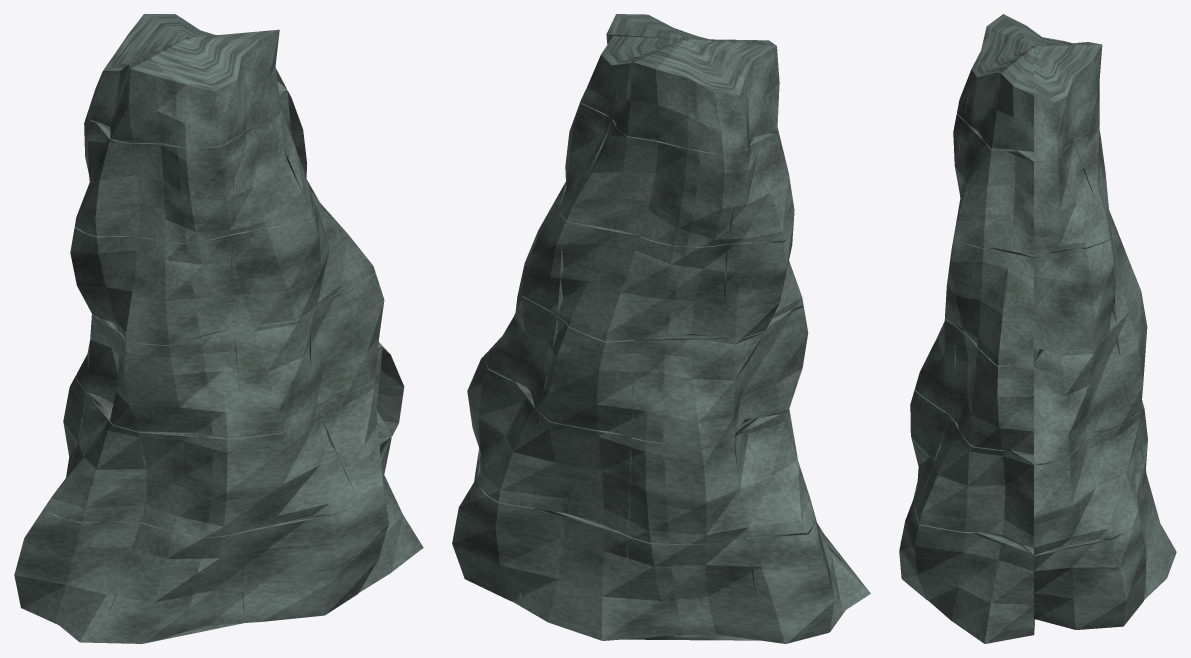
Rendered from azure_rock_fragments.glb.
3 views of the same model, side by side, from view 1: azimuth 30°, elevation 25°; view 2: azimuth 150°, elevation 25°; view 3: azimuth 270°, elevation 25° (orthographic). The views are drawn at different scales.
Parts seen in each view (by area): view 1: azure_rock_shard_2, azure_rock_shard_1, azure_rock_shard_3, azure_rock_shard_16, azure_rock_shard_9, azure_rock_shard_8, azure_rock_shard_23, azure_rock_shard_10, azure_rock_shard_15, azure_rock_shard_22, azure_rock_shard_30, azure_rock_shard_37 (+16 smaller); view 2: azure_rock_shard_4, azure_rock_shard_5, azure_rock_shard_11, azure_rock_shard_18, azure_rock_shard_3, azure_rock_shard_12, azure_rock_shard_32, azure_rock_shard_25, azure_rock_shard_19, azure_rock_shard_26, azure_rock_shard_13, azure_rock_shard_10 (+13 smaller); view 3: azure_rock_shard_0, azure_rock_shard_13, azure_rock_shard_7, azure_rock_shard_6, azure_rock_shard_20, azure_rock_shard_21, azure_rock_shard_27, azure_rock_shard_14, azure_rock_shard_28, azure_rock_shard_34, azure_rock_shard_35, azure_rock_shard_41 (+16 smaller).
Part boxes in pixels (x1,y1,x2,y2): azure_rock_shard_2: (98, 522, 245, 643); azure_rock_shard_1: (242, 506, 369, 622); azure_rock_shard_3: (14, 510, 142, 642); azure_rock_shard_16: (129, 329, 244, 438); azure_rock_shard_9: (138, 431, 247, 536); azure_rock_shard_8: (245, 406, 360, 530); azure_rock_shard_23: (132, 234, 233, 344); azure_rock_shard_10: (43, 392, 146, 522); azure_rock_shard_15: (234, 312, 317, 436); azure_rock_shard_22: (232, 219, 314, 328); azure_rock_shard_30: (150, 140, 233, 243); azure_rock_shard_37: (149, 35, 231, 147); azure_rock_shard_4: (621, 536, 761, 640); azure_rock_shard_5: (517, 508, 628, 640); azure_rock_shard_11: (628, 436, 746, 544); azure_rock_shard_18: (631, 337, 734, 448); azure_rock_shard_3: (746, 513, 870, 643); azure_rock_shard_12: (533, 414, 631, 535); azure_rock_shard_32: (641, 139, 734, 246); azure_rock_shard_25: (633, 237, 727, 339); azure_rock_shard_19: (540, 317, 634, 436); azure_rock_shard_26: (557, 221, 640, 341); azure_rock_shard_13: (467, 351, 540, 507); azure_rock_shard_10: (734, 409, 815, 537); azure_rock_shard_0: (909, 513, 1033, 643); azure_rock_shard_13: (1034, 419, 1139, 555); azure_rock_shard_7: (916, 415, 1033, 554); azure_rock_shard_6: (1034, 521, 1147, 634); azure_rock_shard_20: (1034, 328, 1130, 464); azure_rock_shard_21: (951, 240, 1033, 366); azure_rock_shard_27: (1034, 239, 1116, 361); azure_rock_shard_14: (950, 326, 1033, 463); azure_rock_shard_28: (954, 143, 1033, 256); azure_rock_shard_34: (1034, 140, 1109, 256); azure_rock_shard_35: (986, 59, 1033, 161); azure_rock_shard_41: (1034, 60, 1073, 161).
Bounding box in the file's own units: 4.11 × 5.64 × 2.82.
Materials: 1 (1 with a texture image).
